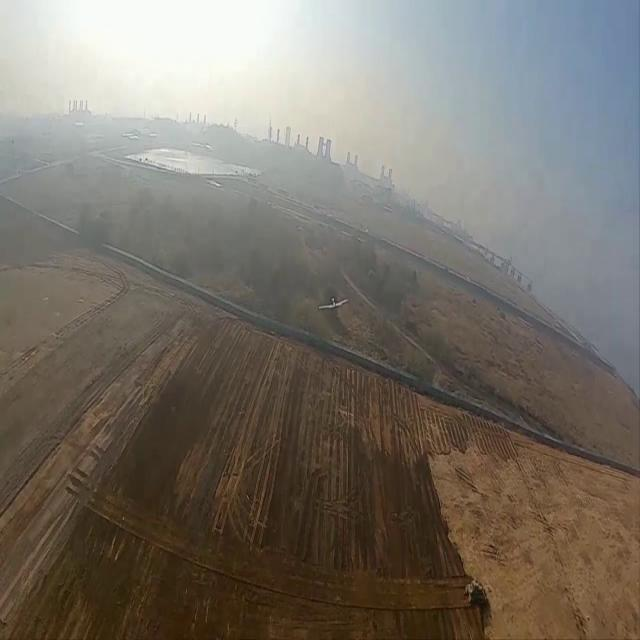iha: (310, 283, 342, 318)
